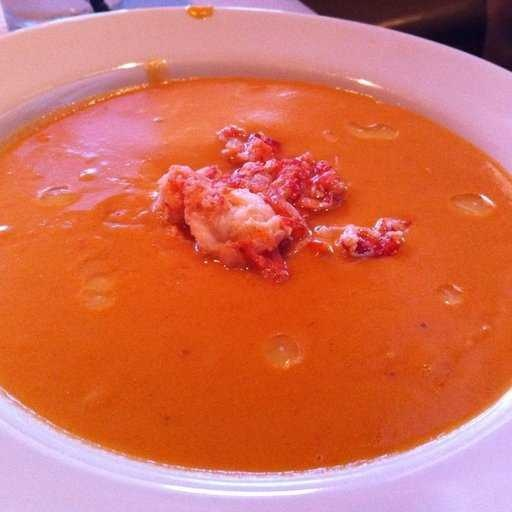soup: (19, 25, 482, 461)
